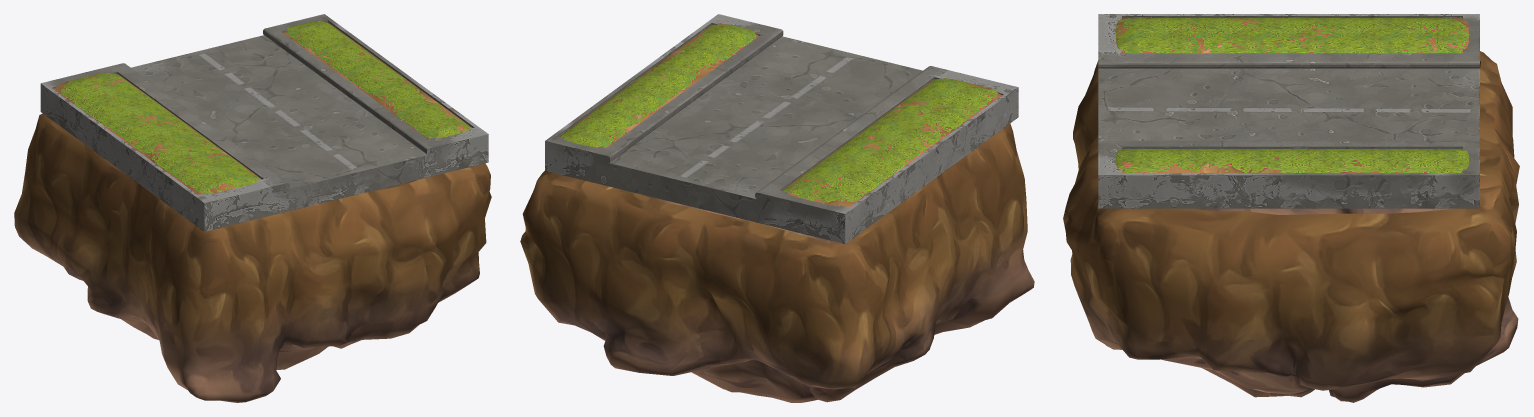
File: terreno1.fbx
3 renders of one model, left to right at view 1: azimuth 30°, elevation 25°; view 2: azimuth 150°, elevation 25°; view 3: azimuth 270°, elevation 25°, orthographic. The views are drawn at different scales.
Parts seen in each view (by area): view 1: terreno, calle; view 2: terreno, calle; view 3: terreno, calle.
Boxes of the visible parts, x1=… form: terreno: x1=14, y1=113, x2=491, y2=402; calle: x1=40, y1=14, x2=488, y2=231; terreno: x1=520, y1=123, x2=1034, y2=402; calle: x1=545, y1=14, x2=1018, y2=243; terreno: x1=1063, y1=51, x2=1519, y2=402; calle: x1=1098, y1=14, x2=1479, y2=208.
Size of what is drawn, in the model's own units: 2436 by 1768 by 2397.
